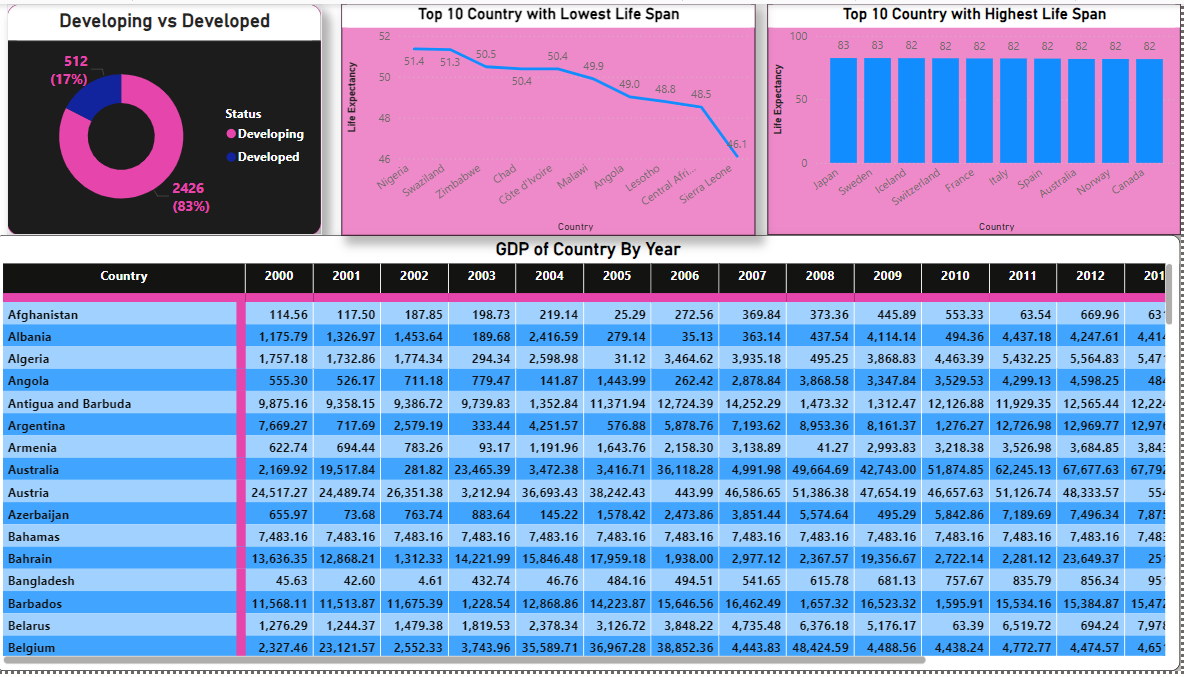

The dashboard page shown, as its layout file describes it:
{"tool":"powerbi","page":{"name":"Page 2","canvas":[1280,720],"ordinal":1},"visuals":[{"type":"donutChart","title":"Developing vs Developed","fields":{"Category":["wajid.Status"],"Y":["wajid.Country"]},"box":[13.6,0,339.2,249.8],"z":0},{"type":"clusteredColumnChart","title":"Top 10 Country with Highest Life Span","fields":{"Category":["wajid.Country"],"Y":["wajid.Life expectancy "]},"box":[833.4,0,446,249.5],"z":1000},{"type":"pivotTable","title":"GDP of Country By Year ","fields":{"Rows":["wajid.Country"],"Columns":["wajid.Year"],"Values":["wajid.GDP"]},"box":[0,249.5,1279.4,470.6],"z":2000},{"type":"lineChart","title":"Top 10 Country with Lowest  Life Span","fields":{"Category":["wajid.Country"],"Y":["wajid.Life expectancy "]},"box":[374,0,446.7,249.8],"z":3000}]}

Visuals, with their boxes in screenshot pixels (x1, y1, x2, y2), scaled from the page's 1280x720 canvas onto the 1184x677 screenshot:
"Developing vs Developed" donutChart: rect(13, 0, 326, 235)
"Top 10 Country with Highest Life Span" clusteredColumnChart: rect(771, 0, 1183, 235)
"GDP of Country By Year " pivotTable: rect(0, 235, 1183, 676)
"Top 10 Country with Lowest  Life Span" lineChart: rect(346, 0, 759, 235)
